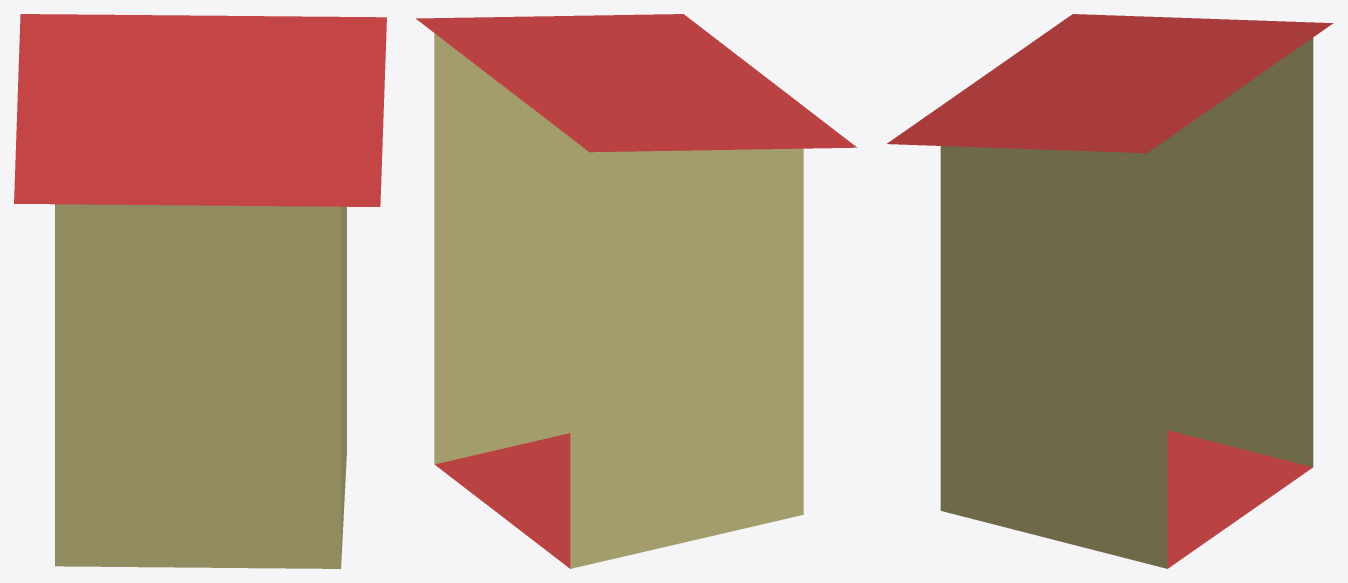
3 views of the same model, side by side, from view 1: azimuth 30°, elevation 25°; view 2: azimuth 150°, elevation 25°; view 3: azimuth 270°, elevation 25° (orthographic).
Bounding box in the file's own units: 5.9 × 5.67 × 6.01.
